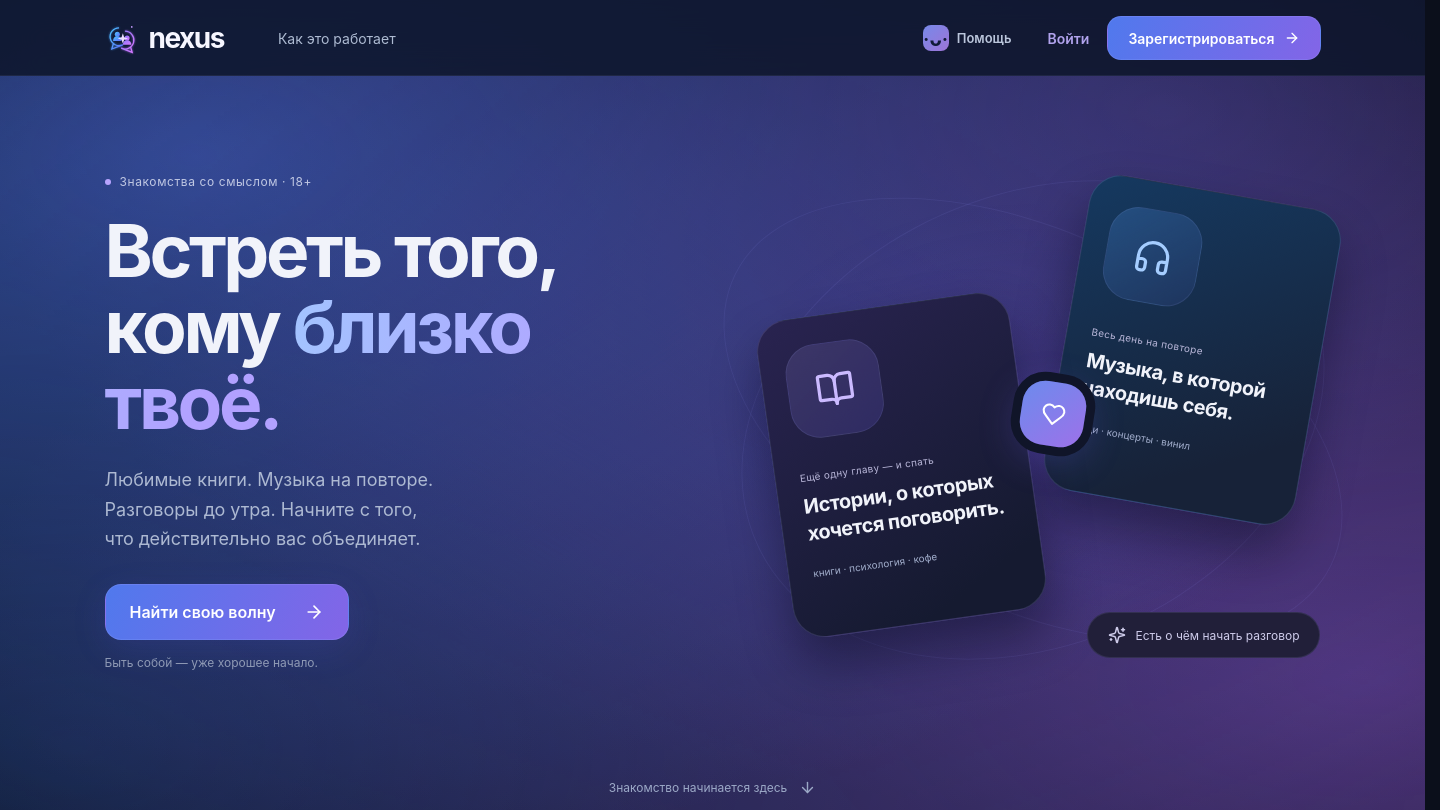
Test case: Nexus user flows › signs in with a login as well as with an email
The image size is (1440, 810).
Click the button "Войти" at (1068, 38), box [1047,8,1089,68]
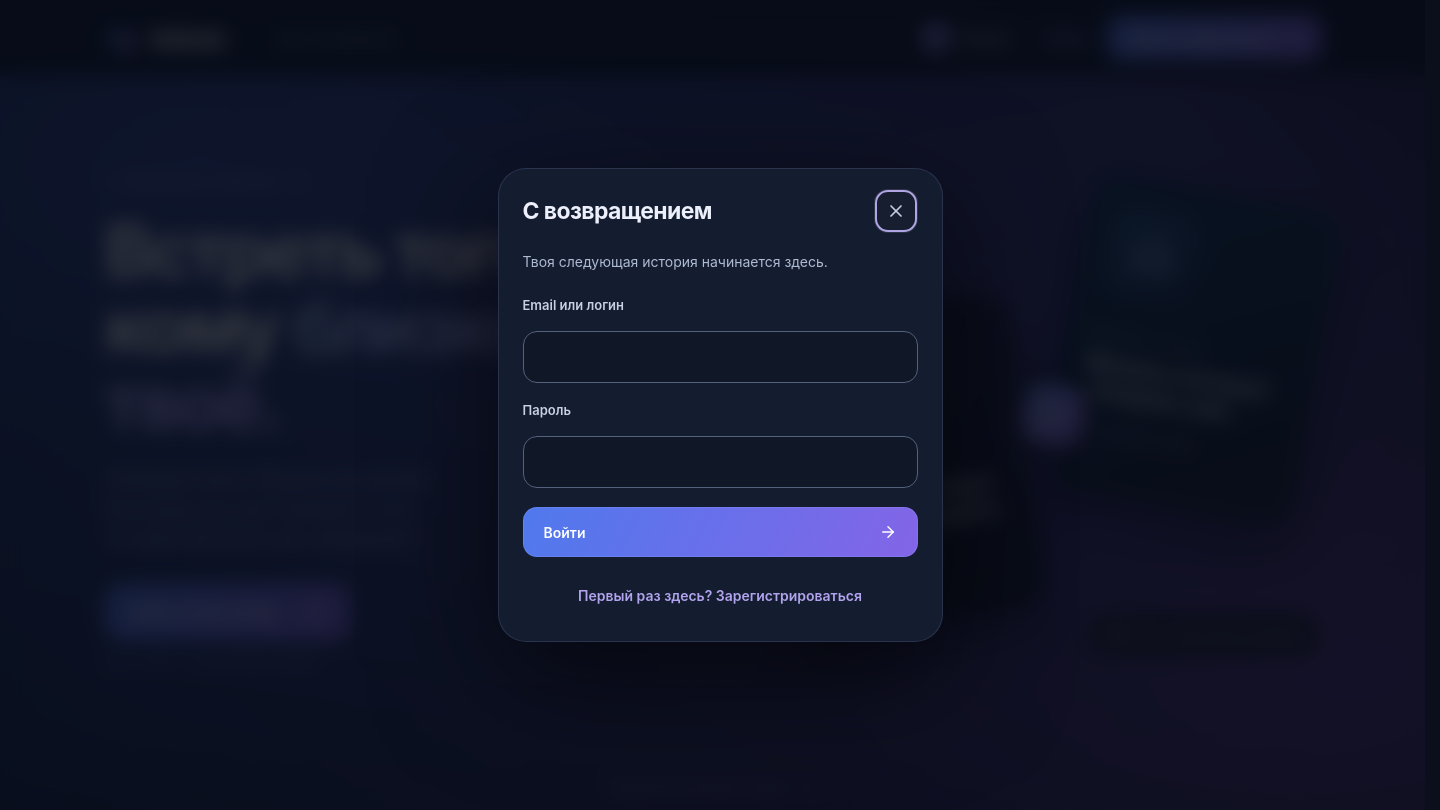
Type "nexus_friend" into the field labelled "Email или логин" at (720, 357), box [522,331,918,383]
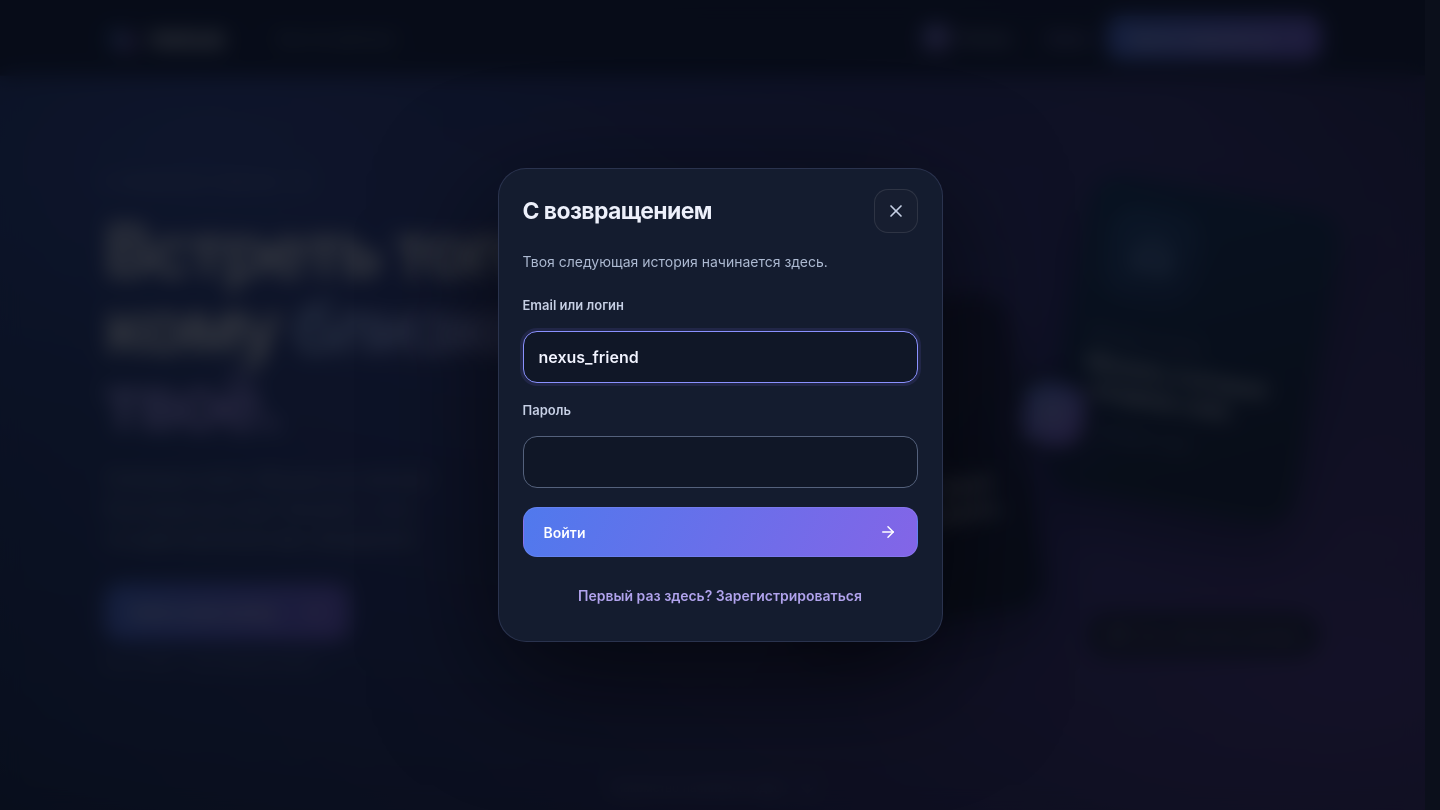
Type "Password123!" into the password field labelled "Пароль" at (720, 462), box [522,436,918,488]
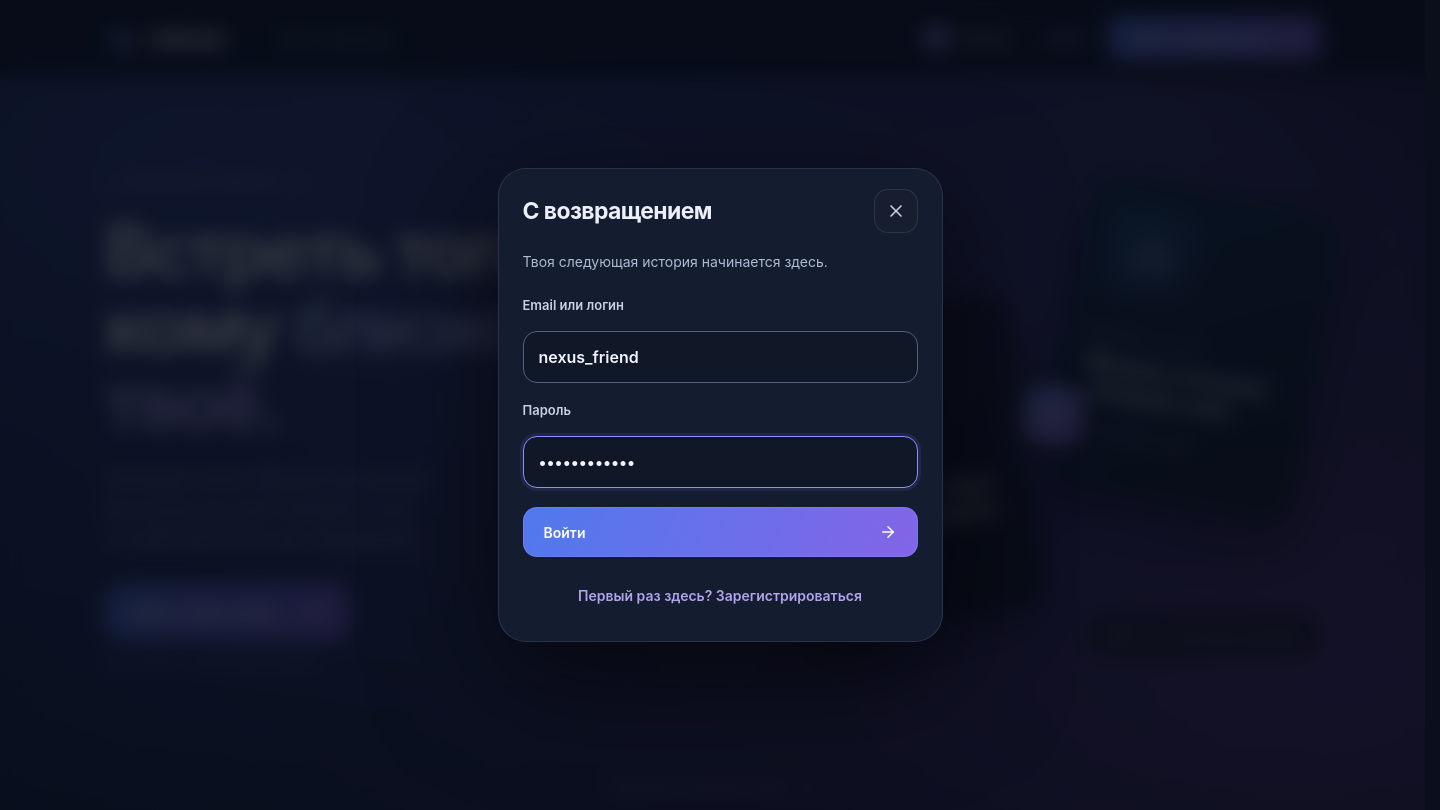
Click the button "Войти" at (564, 532), box [522,507,918,557]
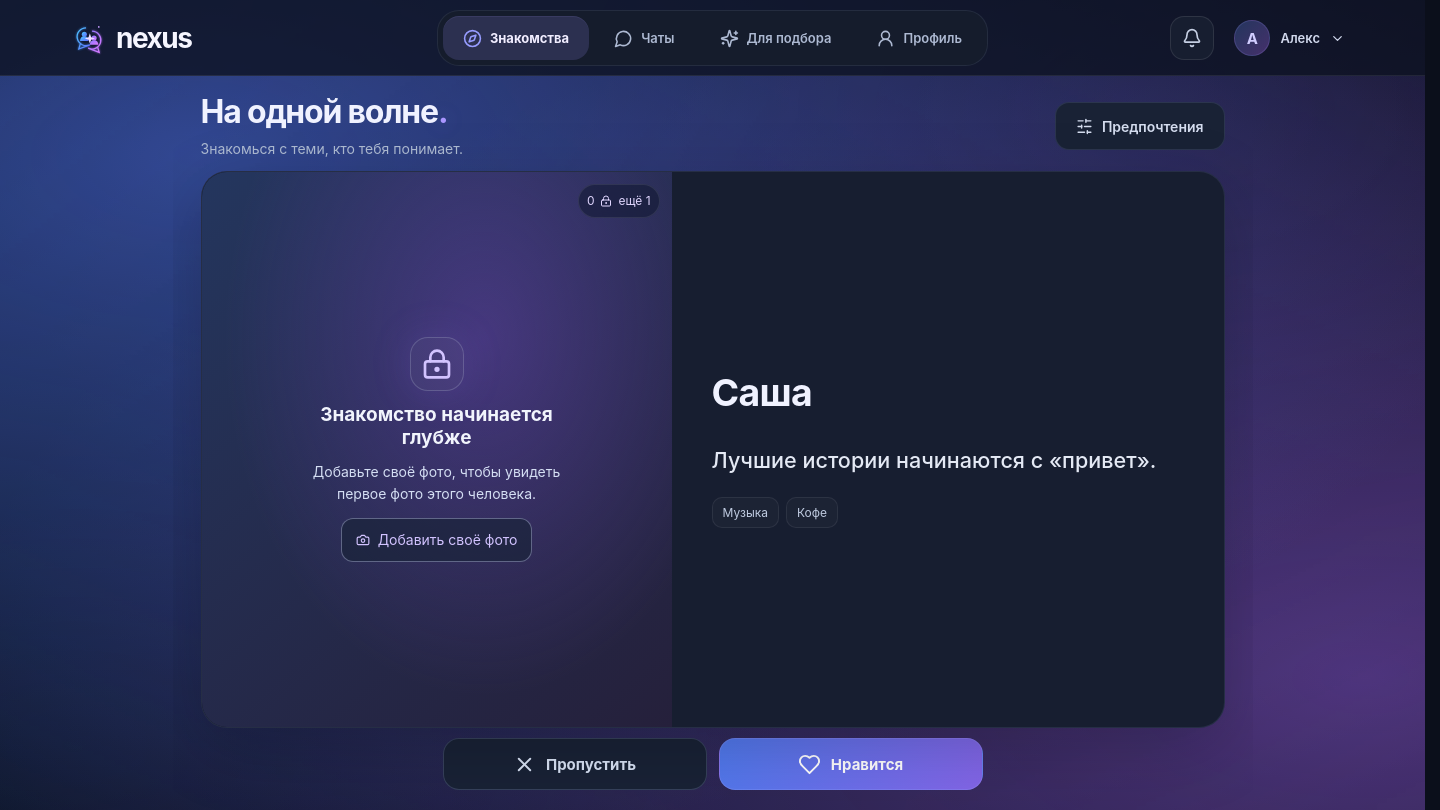
Result: the heading "На одной волне." is shown at [200,94,463,131]
